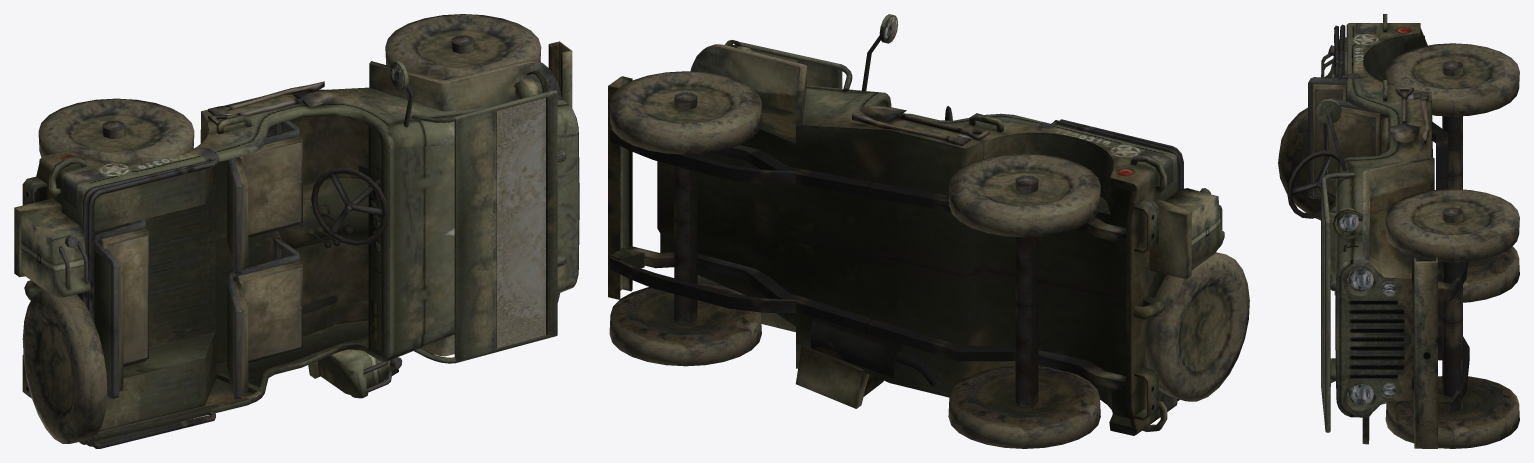
The model's file is vehicle_american_jeep.glb.
3 renders of one model, left to right at view 1: azimuth 30°, elevation 25°; view 2: azimuth 150°, elevation 25°; view 3: azimuth 270°, elevation 25°, orthographic. The views are drawn at different scales.
Bounding box in the file's own units: 145 × 85.2 × 61.88.
Materials: 2 (2 with a texture image).
